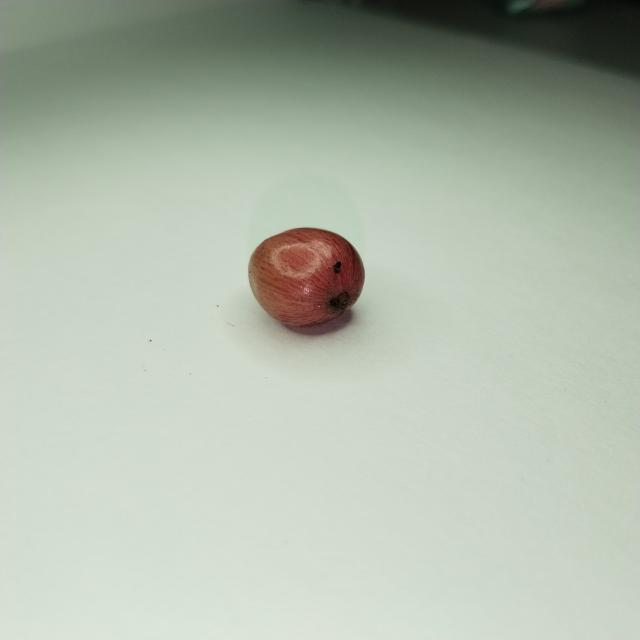Infectado: (249, 228, 365, 327)
